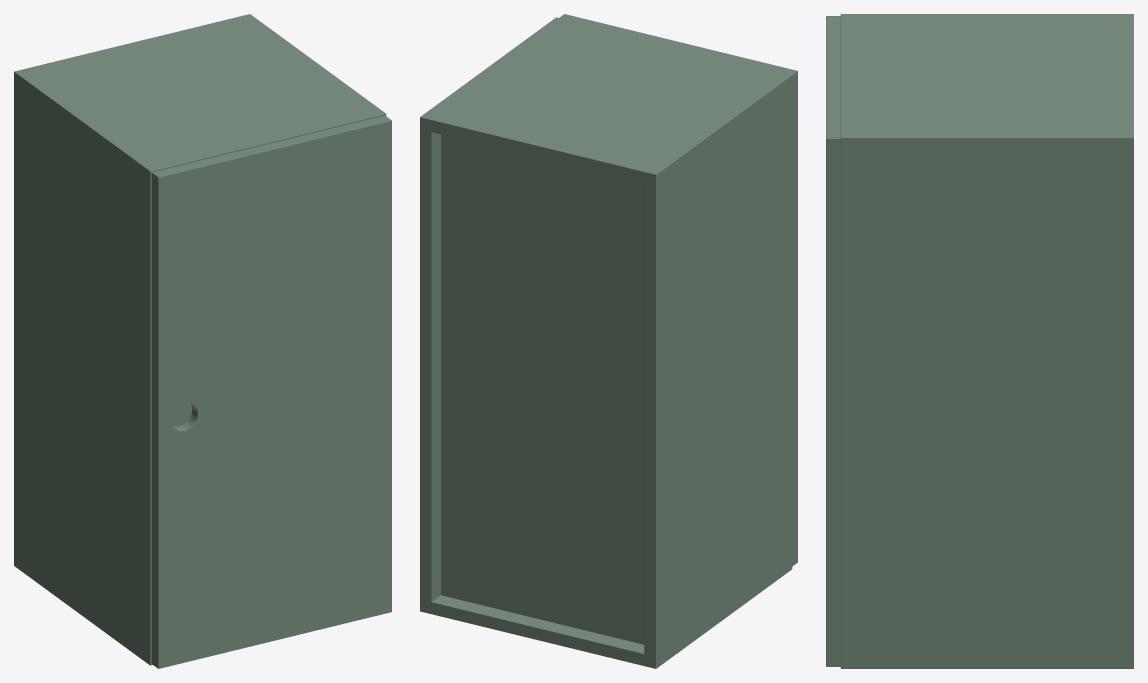
File: MOD_1X2_D_B_IZQ_VA.glb
3 views of the same model, side by side, from view 1: azimuth 30°, elevation 25°; view 2: azimuth 150°, elevation 25°; view 3: azimuth 270°, elevation 25° (orthographic). The views are drawn at different scales.
Size of the model in its own units: 360 by 720 by 378.
